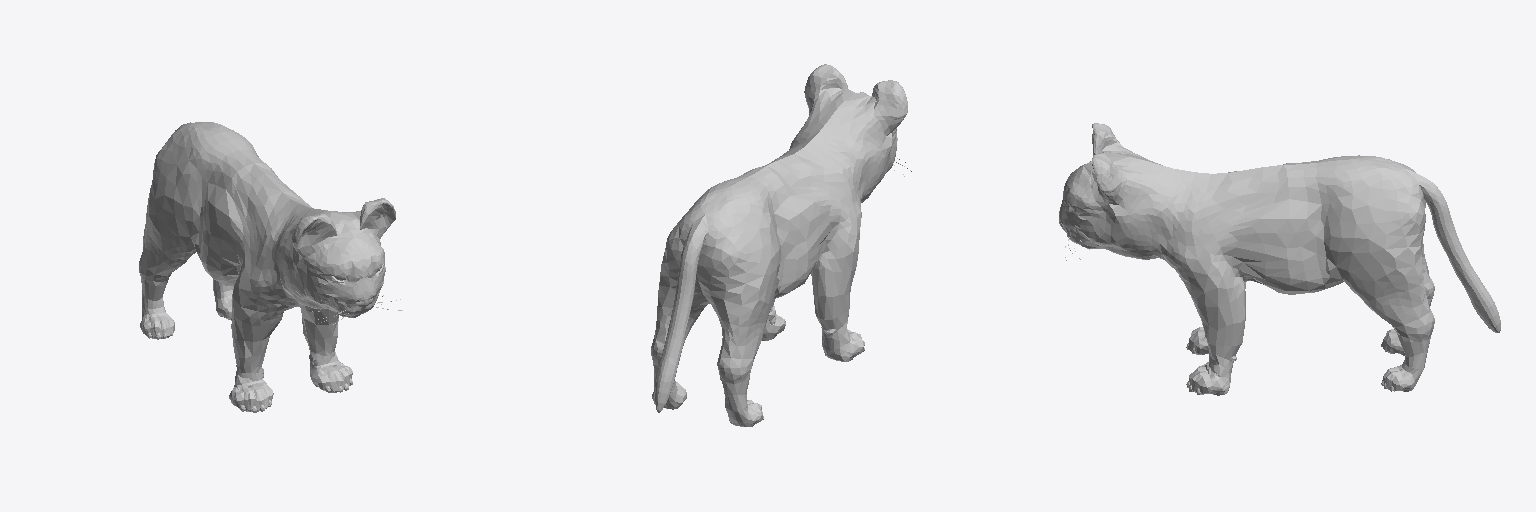
Rendered from LIONCUB.OBJ.
3 renders of one model, left to right at view 1: azimuth 30°, elevation 25°; view 2: azimuth 150°, elevation 25°; view 3: azimuth 270°, elevation 25°, orthographic.
Parts seen in each view (by area): view 1: lnc_body; view 2: lnc_body; view 3: lnc_body.
Boxes of the visible parts, <box> form: lnc_body: <box>139,122,395,412</box>; lnc_body: <box>651,64,907,426</box>; lnc_body: <box>1059,123,1500,395</box>.
Bounding box in the file's own units: 0.1982 × 0.368 × 0.64.